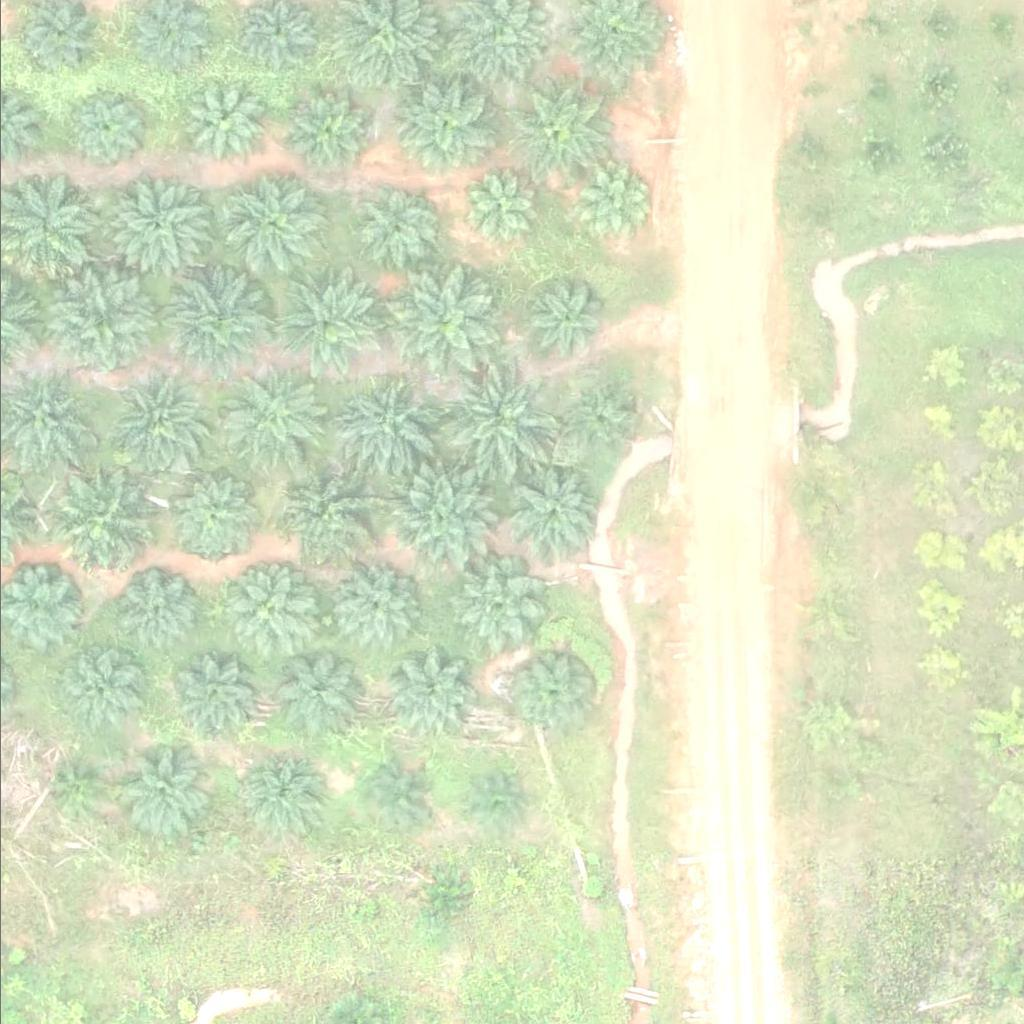Kelapa_Sawit: (441, 366, 566, 491), (389, 268, 502, 381), (270, 273, 383, 386), (161, 267, 274, 380), (42, 267, 156, 379), (510, 80, 611, 180), (335, 381, 436, 481), (220, 371, 321, 471), (99, 371, 200, 471), (389, 469, 490, 569), (273, 461, 374, 561), (50, 475, 151, 575), (391, 80, 491, 180), (224, 177, 324, 277), (110, 180, 210, 280), (223, 567, 312, 655), (504, 470, 592, 558), (169, 471, 257, 559), (112, 567, 200, 655), (237, 750, 325, 838), (517, 277, 606, 364), (565, 165, 653, 252), (59, 88, 147, 175), (450, 561, 538, 648), (325, 563, 413, 650), (383, 651, 471, 738), (270, 649, 358, 736), (168, 649, 256, 736), (50, 643, 138, 730), (118, 750, 206, 837), (516, 656, 592, 731), (239, 1, 315, 76), (286, 93, 362, 168), (182, 88, 258, 163), (353, 195, 429, 270), (461, 170, 536, 245), (363, 767, 426, 829), (566, 390, 629, 452), (410, 868, 472, 930), (45, 763, 96, 813), (466, 777, 516, 827)
